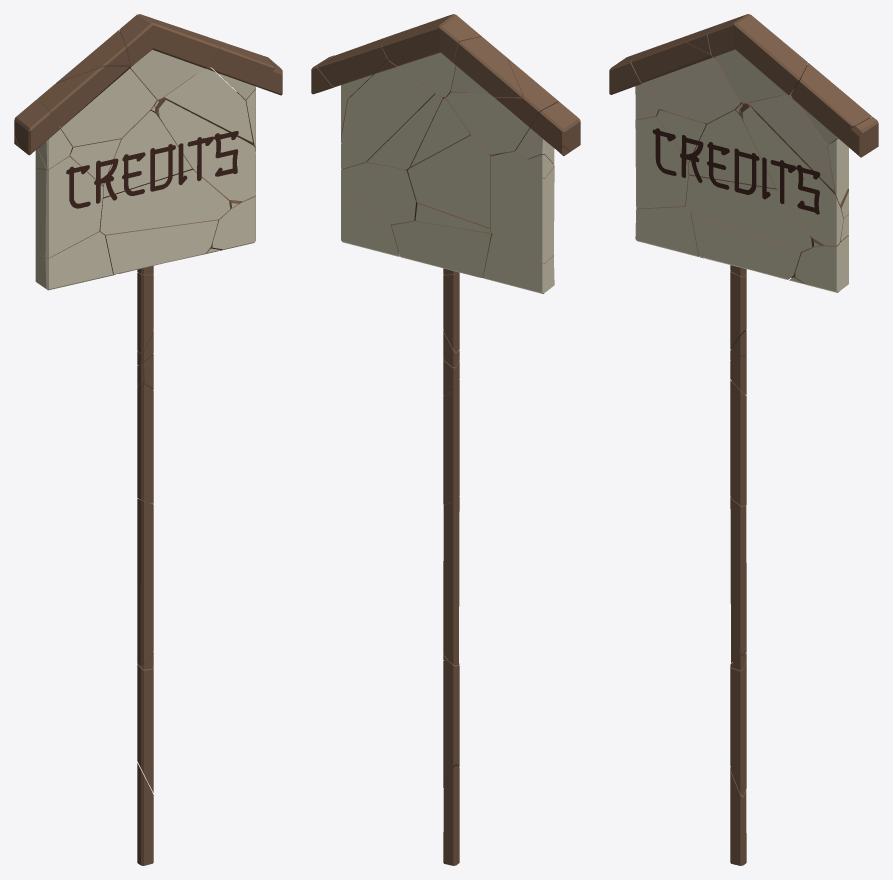
The model's file is bsign-credits.fbx.
3 views of the same model, side by side, from view 1: azimuth 30°, elevation 25°; view 2: azimuth 150°, elevation 25°; view 3: azimuth 330°, elevation 25° (orthographic).
Visible parts, largest first — view 1: sign_credits01.001_cell.009, sign_credits01.001_cell.028, sign_credits01.001_cell.025, sign_credits01.001_cell.033, sign_credits01.001_cell.011, sign_credits01.001_cell.005, sign_credits01.001_cell.034, sign_credits01.001_cell.035, sign_credits01.001_cell.036, sign_credits01.001_cell.006, sign_credits01.001_cell.001, sign_credits01.001_cell.039 (+7 smaller); view 2: sign_credits01.001_cell.028, sign_credits01.001_cell.035, sign_credits01.001_cell.005, sign_credits01.001_cell.009, sign_credits01.001_cell.011, sign_credits01.001_cell.034, sign_credits01.001_cell.031, sign_credits01.001_cell.024, sign_credits01.001_cell.006, sign_credits01.001_cell.036, sign_credits01.001_cell.001, sign_credits01.001_cell.039 (+8 smaller); view 3: sign_credits01.001_cell.009, sign_credits01.001_cell.011, sign_credits01.001_cell.033, sign_credits01.001_cell.025, sign_credits01.001_cell.005, sign_credits01.001_cell.028, sign_credits01.001_cell.034, sign_credits01.001_cell.035, sign_credits01.001_cell.039, sign_credits01.001_cell.006, sign_credits01.001_cell.036, sign_credits01.001_cell.043 (+9 smaller).
Boxes of the visible parts, <box> form: sign_credits01.001_cell.009: <box>37,66,156,146</box>; sign_credits01.001_cell.028: <box>35,145,102,257</box>; sign_credits01.001_cell.025: <box>99,169,229,234</box>; sign_credits01.001_cell.033: <box>157,100,255,201</box>; sign_credits01.001_cell.011: <box>119,14,219,99</box>; sign_credits01.001_cell.005: <box>94,110,193,203</box>; sign_credits01.001_cell.034: <box>99,219,218,274</box>; sign_credits01.001_cell.035: <box>163,67,252,144</box>; sign_credits01.001_cell.036: <box>35,231,112,290</box>; sign_credits01.001_cell.006: <box>137,498,153,666</box>; sign_credits01.001_cell.001: <box>14,99,72,169</box>; sign_credits01.001_cell.039: <box>199,34,274,99</box>; sign_credits01.001_cell.028: <box>491,150,554,262</box>; sign_credits01.001_cell.035: <box>341,60,435,169</box>; sign_credits01.001_cell.005: <box>405,132,491,227</box>; sign_credits01.001_cell.009: <box>446,58,558,154</box>; sign_credits01.001_cell.011: <box>381,14,481,97</box>; sign_credits01.001_cell.034: <box>391,220,492,277</box>; sign_credits01.001_cell.031: <box>341,161,415,224</box>; sign_credits01.001_cell.024: <box>451,36,522,97</box>; sign_credits01.001_cell.006: <box>443,497,459,665</box>; sign_credits01.001_cell.036: <box>483,234,554,293</box>; sign_credits01.001_cell.001: <box>515,101,580,164</box>; sign_credits01.001_cell.039: <box>317,36,388,98</box>; sign_credits01.001_cell.009: <box>631,41,740,123</box>; sign_credits01.001_cell.011: <box>707,14,807,102</box>; sign_credits01.001_cell.033: <box>741,107,843,245</box>; sign_credits01.001_cell.025: <box>686,175,811,251</box>; sign_credits01.001_cell.005: <box>680,110,776,199</box>; sign_credits01.001_cell.028: <box>635,116,689,208</box>; sign_credits01.001_cell.034: <box>691,213,800,279</box>; sign_credits01.001_cell.035: <box>748,88,848,218</box>; sign_credits01.001_cell.039: <box>791,63,871,144</box>; sign_credits01.001_cell.006: <box>730,497,746,662</box>; sign_credits01.001_cell.036: <box>635,206,699,256</box>; sign_credits01.001_cell.043: <box>791,235,848,292</box>.
Size of the model in its own units: 78.58 by 248 by 9.52.
